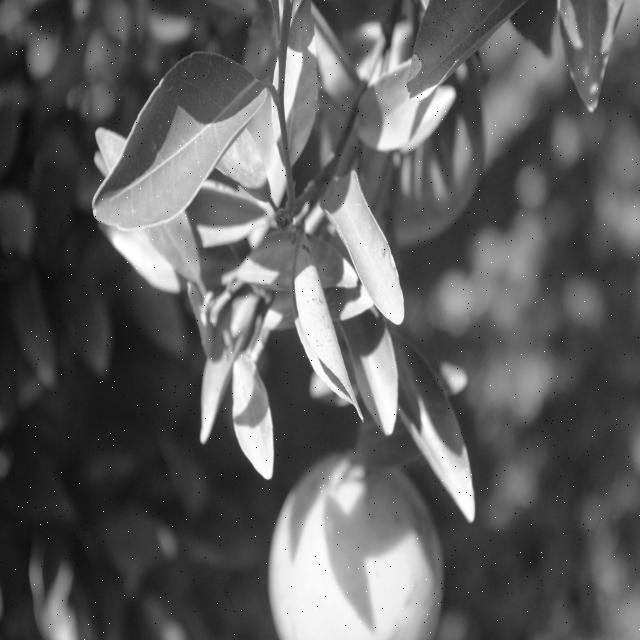melanose: (298, 237, 345, 392)
